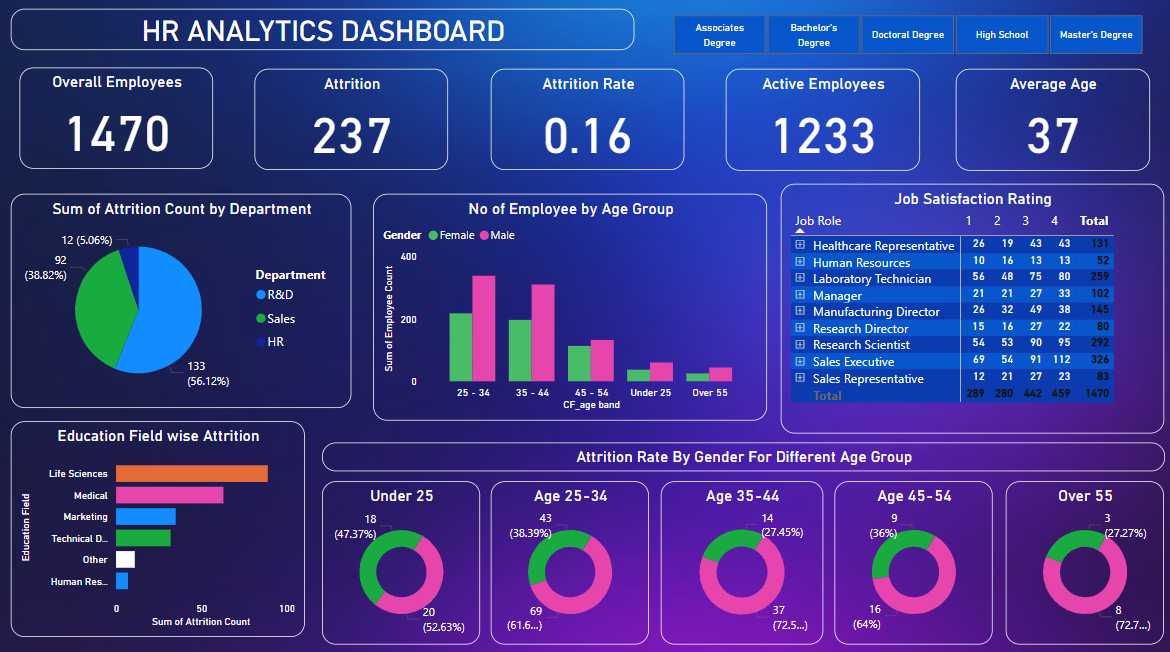

Layout of this report page (visuals, bound fields, positions):
{"tool":"powerbi","page":{"name":"Page 1","canvas":[1280,720],"ordinal":0},"visuals":[{"type":"card","title":"Overall Employees","fields":{"Values":["Sum(Sheet1.Employee Count)"]},"box":[24.7,78.2,209.9,109.8],"z":0},{"type":"card","title":"Active Employees","fields":{"Values":["Sheet1.Active Employee"]},"box":[788.3,80,210,110],"z":1000},{"type":"card","title":"Average Age","fields":{"Values":["Avg(Sheet1.Age)"]},"box":[1038.3,80,210,110],"z":2000},{"type":"pieChart","fields":{"Y":["Sum(Sheet1.Attrition Count)"],"Category":["Sheet1.Department"]},"box":[15.1,215.4,369.1,231.9],"z":3000},{"type":"clusteredColumnChart","title":"No of Employee by Age Group","fields":{"Category":["Sheet1.CF_age band"],"Y":["Sum(Sheet1.Employee Count)"],"Series":["Sheet1.Gender"]},"box":[407.5,215.4,426.8,245.6],"z":4000},{"type":"pivotTable","title":"Job Satisfaction Rating","fields":{"Rows":["Sheet1.Job Role","Sheet1.Attrition"],"Columns":["Sheet1.Job Satisfaction"],"Values":["Sum(Sheet1.Employee Count)"]},"box":[848.3,205,415,270],"z":5000},{"type":"card","title":"Attrition","fields":{"Values":["Sum(Sheet1.Attrition Count)"]},"box":[278.6,79.6,209.9,109.8],"z":6000},{"type":"card","title":"Attrition Rate","fields":{"Values":["Sheet1.Attrition Rate"]},"box":[535.2,79.6,209.9,109.8],"z":7000},{"type":"clusteredBarChart","title":"Education Field wise Attrition","fields":{"Y":["Sum(Sheet1.Attrition Count)"],"Category":["Sheet1.Education Field"]},"box":[15.1,461.1,318.4,233.3],"z":8000},{"type":"donutChart","title":"Under 25","fields":{"Category":["Sheet1.Gender"],"Series":["Sheet1.CF_age band"],"Y":["Sum(Sheet1.Attrition Count)"]},"box":[351.3,526.9,171.5,177],"z":9000},{"type":"donutChart","title":"Age 25-34","fields":{"Category":["Sheet1.Gender"],"Series":["Sheet1.CF_age band"],"Y":["Sum(Sheet1.Attrition Count)"]},"box":[535.2,526.9,171.5,177],"z":10000},{"type":"donutChart","title":"Age 35-44","fields":{"Category":["Sheet1.Gender"],"Series":["Sheet1.CF_age band"],"Y":["Sum(Sheet1.Attrition Count)"]},"box":[719,526.9,175.6,177],"z":11000},{"type":"donutChart","title":"Age 45-54","fields":{"Category":["Sheet1.Gender"],"Series":["Sheet1.CF_age band"],"Y":["Sum(Sheet1.Attrition Count)"]},"box":[907,526.9,171.5,177],"z":12000},{"type":"donutChart","title":"Over 55","fields":{"Category":["Sheet1.Gender"],"Series":["Sheet1.CF_age band"],"Y":["Sum(Sheet1.Attrition Count)"]},"box":[1092.3,526.9,171.5,177],"z":13000},{"type":"textbox","title":"Attrition Rate By Gender For Different Age Group","box":[351.3,484.4,912.5,31.6],"z":14000},{"type":"textbox","title":"HR ANALYTICS DASHBOARD","box":[15.1,15.1,675,45],"z":15000},{"type":"slicer","fields":{"Values":["Sheet1.Education"]},"box":[706.5,14.9,557.6,54.1],"z":16000}]}

Visuals, with their boxes in screenshot pixels (x1, y1, x2, y2), scaled from the page's 1280x720 canvas onto the 1170x652 screenshot:
"Overall Employees" card: [x1=23, y1=71, x2=214, y2=170]
"Active Employees" card: [x1=721, y1=72, x2=913, y2=172]
"Average Age" card: [x1=949, y1=72, x2=1141, y2=172]
pieChart - Sum(Sheet1.Attrition Count) x Sheet1.Department: [x1=14, y1=195, x2=351, y2=405]
"No of Employee by Age Group" clusteredColumnChart: [x1=372, y1=195, x2=763, y2=417]
"Job Satisfaction Rating" pivotTable: [x1=775, y1=186, x2=1155, y2=430]
"Attrition" card: [x1=255, y1=72, x2=447, y2=172]
"Attrition Rate" card: [x1=489, y1=72, x2=681, y2=172]
"Education Field wise Attrition" clusteredBarChart: [x1=14, y1=418, x2=305, y2=629]
"Under 25" donutChart: [x1=321, y1=477, x2=478, y2=637]
"Age 25-34" donutChart: [x1=489, y1=477, x2=646, y2=637]
"Age 35-44" donutChart: [x1=657, y1=477, x2=818, y2=637]
"Age 45-54" donutChart: [x1=829, y1=477, x2=986, y2=637]
"Over 55" donutChart: [x1=998, y1=477, x2=1155, y2=637]
"Attrition Rate By Gender For Different Age Group" textbox: [x1=321, y1=439, x2=1155, y2=467]
"HR ANALYTICS DASHBOARD" textbox: [x1=14, y1=14, x2=631, y2=54]
slicer - Sheet1.Education: [x1=646, y1=13, x2=1155, y2=62]
